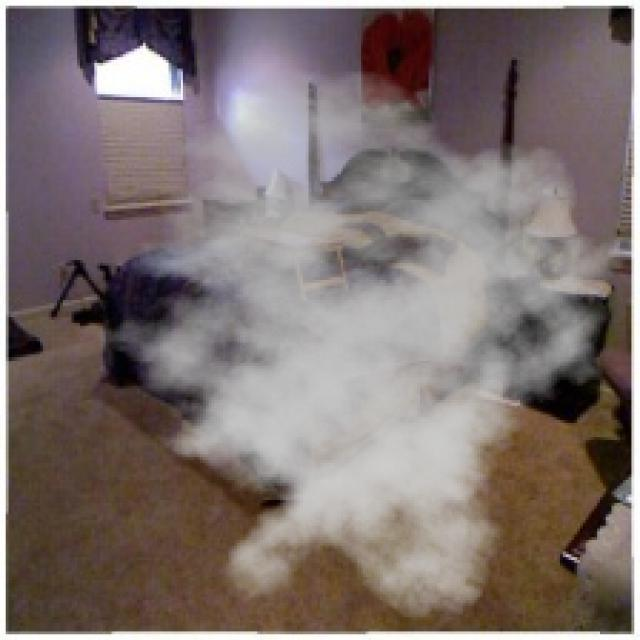Smoke: (74, 68, 637, 623)
